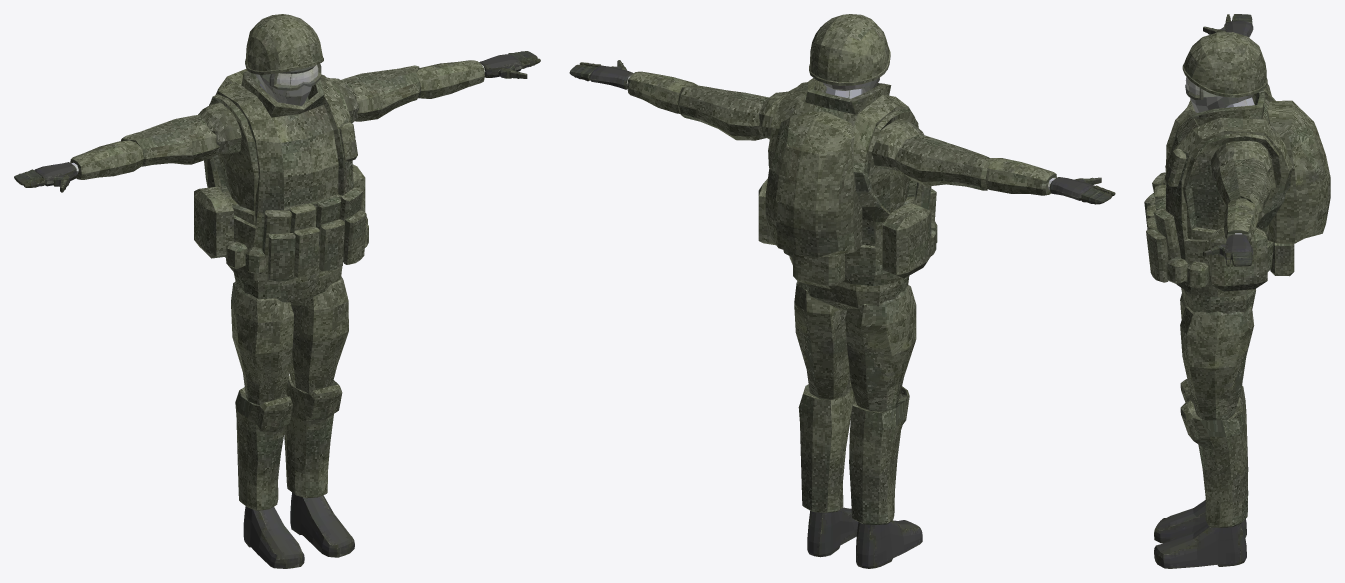
The model's file is soldier.glb.
3 views of the same model, side by side, from view 1: azimuth 30°, elevation 25°; view 2: azimuth 150°, elevation 25°; view 3: azimuth 270°, elevation 25° (orthographic). The views are drawn at different scales.
Parts seen in each view (by area): view 1: Than_0, Dui_r_65, Dau_73, Cangchan_r_66, Cangchan_l_60, Dui_l_59, Baptay_r_30, Baptay_l_2, Giay_l_61, Giay_r_67, Hong_58, Cangtay_r_31 (+2 smaller); view 2: Than_0, Dui_r_65, Cangchan_r_66, Cangchan_l_60, Dau_73, Dui_l_59, Baptay_r_30, Baptay_l_2, Giay_r_67, Cangtay_r_31, Hong_58, Giay_l_61 (+4 smaller); view 3: Than_0, Dui_l_59, Cangchan_l_60, Dau_73, Giay_l_61, Baptay_l_2, Giay_r_67, Vai_l_1, Hong_58, Cangtay_l_3, Bantay_l_5, Cangchan_r_66 (+1 smaller).
Part boxes in pixels (box(x1,y1,x2,y2)): Than_0: box(194, 69, 368, 281); Dui_r_65: box(231, 281, 293, 405); Dau_73: box(245, 14, 323, 105); Cangchan_r_66: box(235, 387, 292, 510); Cangchan_l_60: box(284, 376, 342, 498); Dui_l_59: box(289, 276, 348, 393); Baptay_r_30: box(121, 114, 219, 166); Baptay_l_2: box(341, 65, 419, 121); Giay_l_61: box(290, 492, 354, 557); Giay_r_67: box(243, 506, 304, 568); Hong_58: box(233, 266, 342, 305); Cangtay_r_31: box(70, 140, 143, 179); Than_0: box(758, 78, 937, 288); Dui_r_65: box(845, 285, 916, 411); Cangchan_r_66: box(849, 386, 909, 524); Cangchan_l_60: box(798, 381, 855, 512); Dau_73: box(809, 14, 890, 93); Dui_l_59: box(794, 281, 850, 399); Baptay_r_30: box(895, 134, 989, 190); Baptay_l_2: box(678, 85, 768, 140); Giay_r_67: box(856, 520, 922, 568); Cangtay_r_31: box(985, 158, 1056, 195); Hong_58: box(798, 276, 909, 310); Giay_l_61: box(807, 507, 858, 557); Than_0: box(1144, 88, 1330, 297); Dui_l_59: box(1180, 306, 1254, 420); Cangchan_l_60: box(1180, 400, 1248, 527); Dau_73: box(1182, 32, 1267, 112); Giay_l_61: box(1154, 522, 1246, 568); Baptay_l_2: box(1216, 157, 1271, 220); Giay_r_67: box(1154, 500, 1246, 543); Vai_l_1: box(1211, 140, 1272, 180); Hong_58: box(1181, 288, 1255, 313); Cangtay_l_3: box(1224, 198, 1258, 242); Bantay_l_5: box(1224, 234, 1253, 259); Cangchan_r_66: box(1180, 379, 1248, 479).
Size of the model in its own units: 0.1175 by 0.1122 by 0.0369.
1 material, 1 textured.
